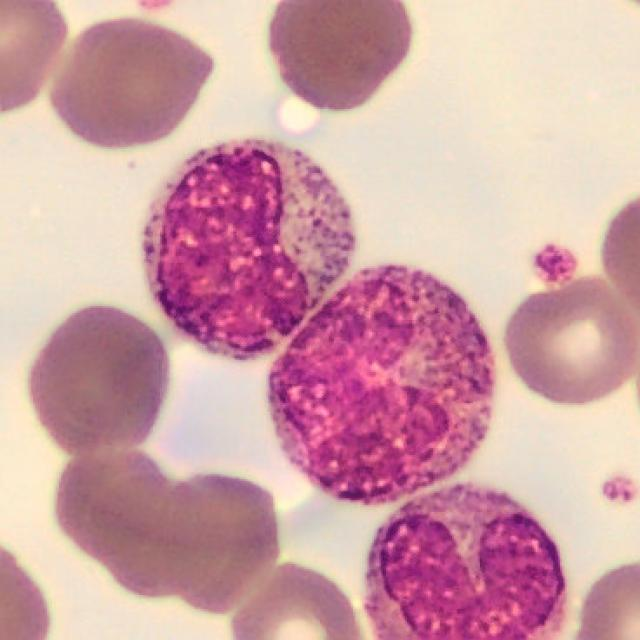Bastonete: (363, 477, 567, 640)
Metamielocito: (141, 142, 358, 360)
Promielocito: (271, 265, 496, 507)
